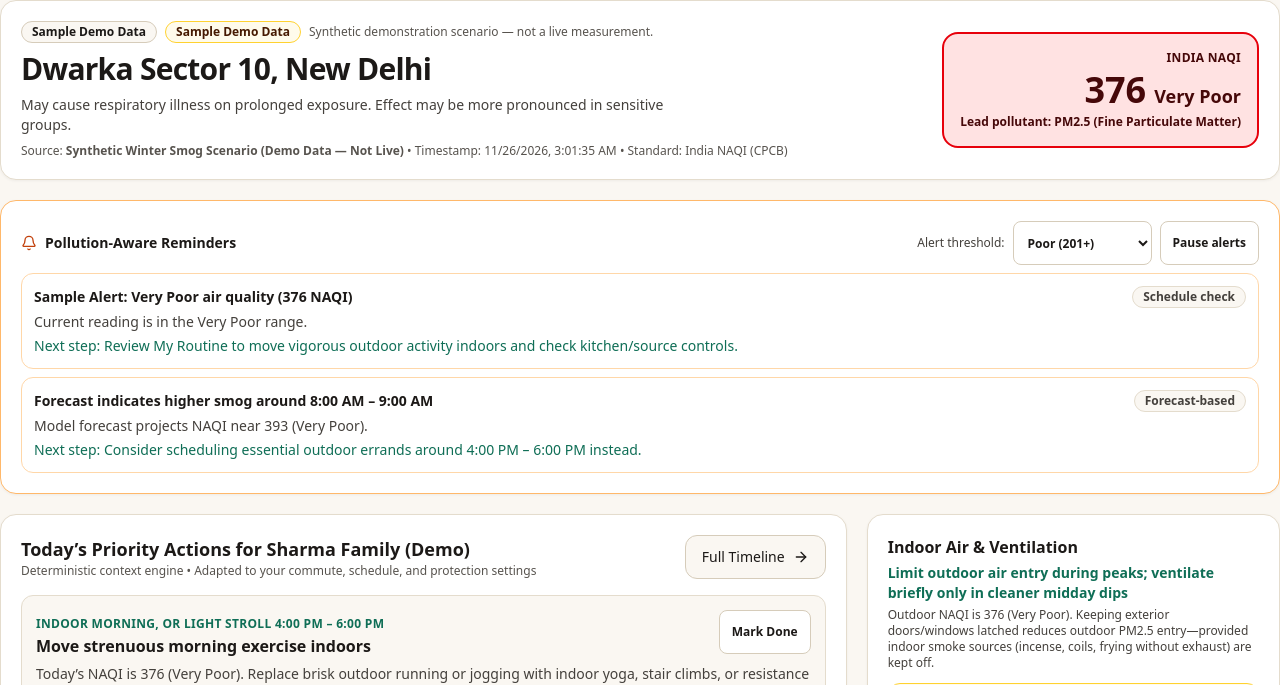
Test: UI Screens & Accessible Visualizations › toggles HomeScreen Mark Done and RoutineScreen Dismiss with aria-pressed state
Later steps or results of the test are not shown.
Click the button with aria-label "Mark Done:". click: (765, 632)
box: [719,610,811,654]
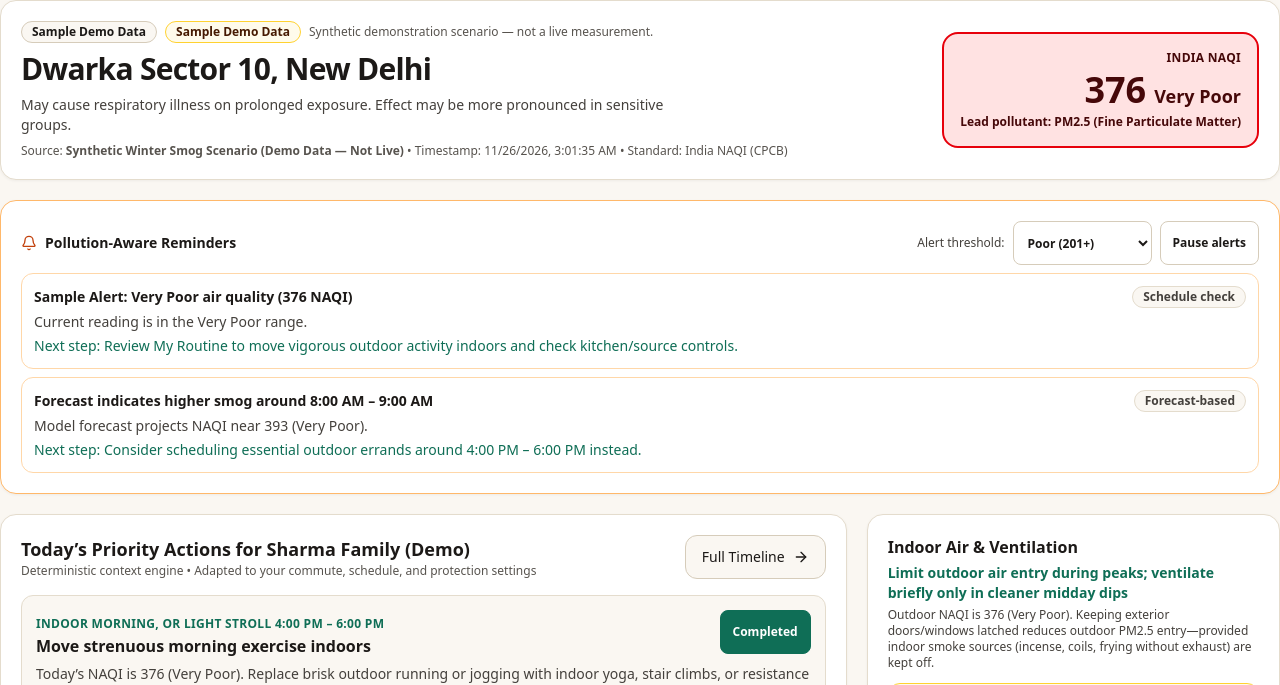
Result: the button with aria-label "Completed:" is pressed at [720,610,811,654]
